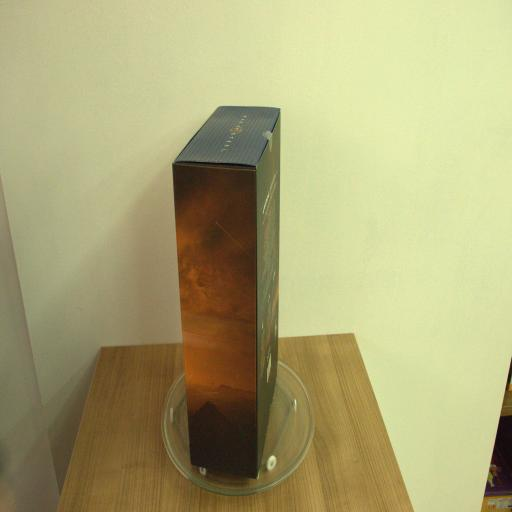superman: (172, 106, 282, 476)
